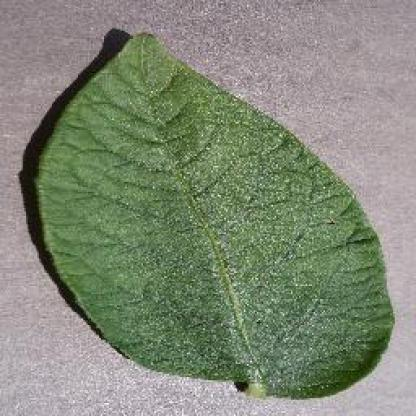bad leaf: (14, 8, 410, 413)
